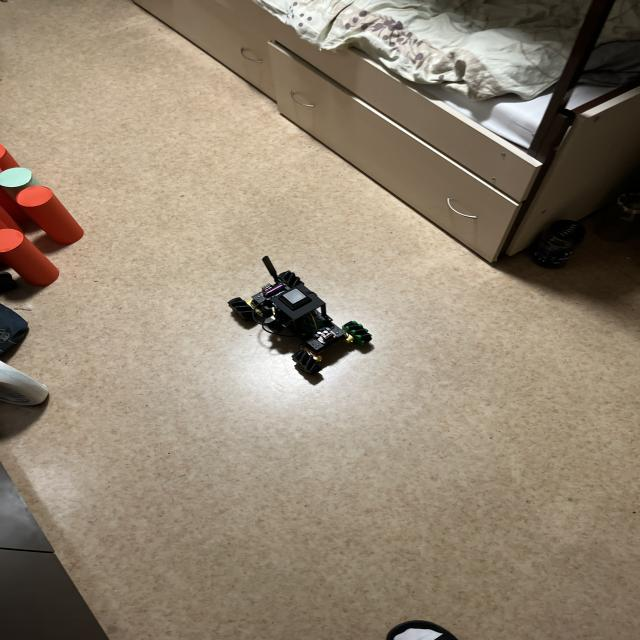robot: (228, 256, 372, 374)
